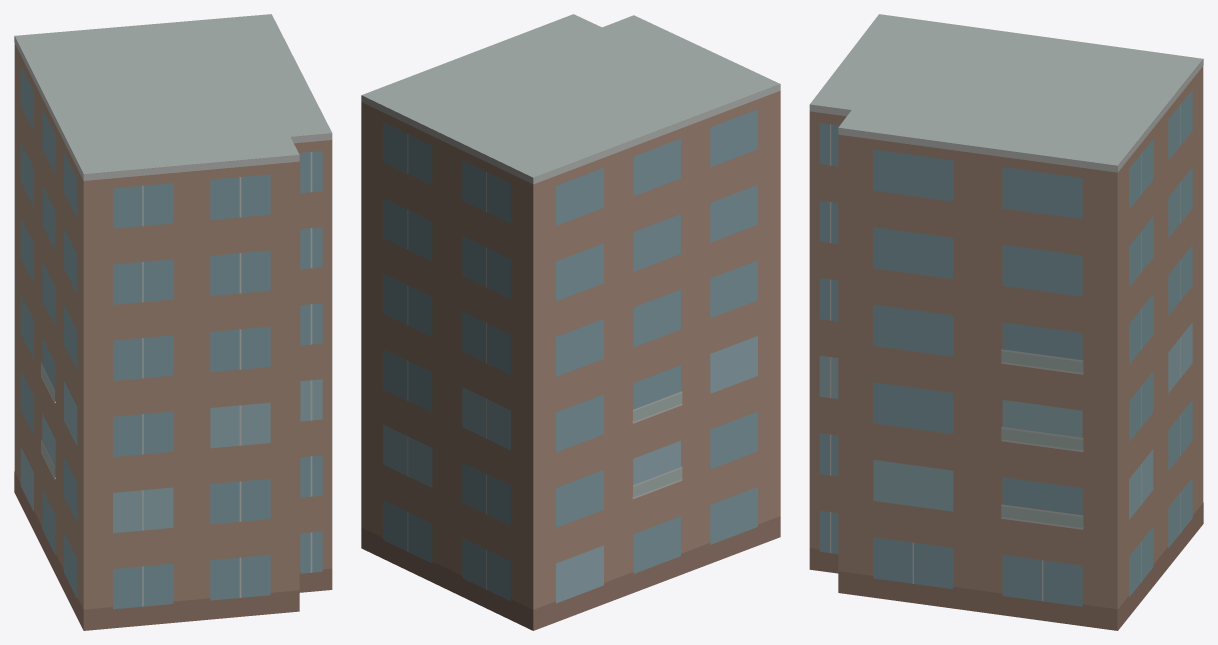
File: survey-upis-32899937.glb
3 renders of one model, left to right at view 1: azimuth 30°, elevation 25°; view 2: azimuth 150°, elevation 25°; view 3: azimuth 270°, elevation 25°, orthographic. The views are drawn at different scales.
Parts seen in each view (by area): view 1: survey-upis-32899937.tmp; view 2: survey-upis-32899937.tmp; view 3: survey-upis-32899937.tmp.
Part boxes in pixels (x1,y1,x2,y2): survey-upis-32899937.tmp: (14, 14, 332, 630); survey-upis-32899937.tmp: (361, 14, 780, 630); survey-upis-32899937.tmp: (809, 14, 1203, 630).
Bounding box in the file's own units: 11.48 × 16.4 × 12.59.
